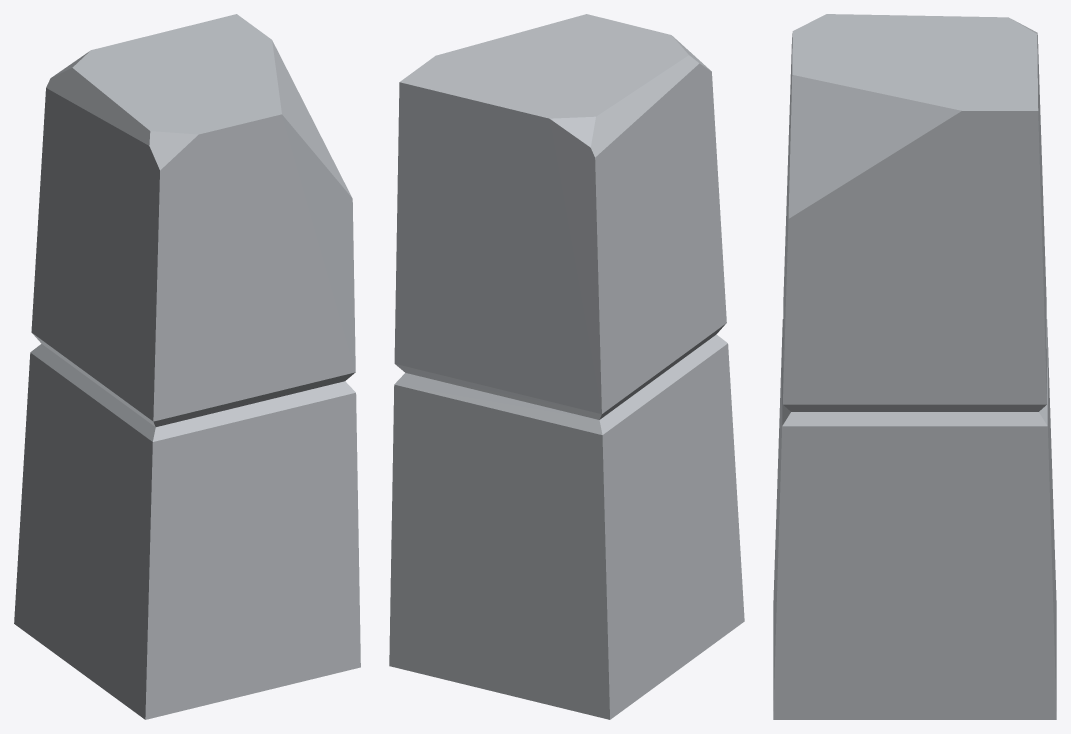
File: Rock_Square_l_12.fbx
The picture shows the model from 3 angles, left to right: view 1: azimuth 30°, elevation 25°; view 2: azimuth 150°, elevation 25°; view 3: azimuth 270°, elevation 25°; orthographic projection. The views are drawn at different scales.
Parts seen in each view (by area): view 1: Rock_Square_l_12; view 2: Rock_Square_l_12; view 3: Rock_Square_l_12.
Part boxes in pixels (box(x1,y1,x2,y2)): Rock_Square_l_12: box(14, 14, 360, 719); Rock_Square_l_12: box(389, 14, 744, 719); Rock_Square_l_12: box(773, 14, 1056, 719).
Size of the model in its own units: 127 by 317 by 134.
